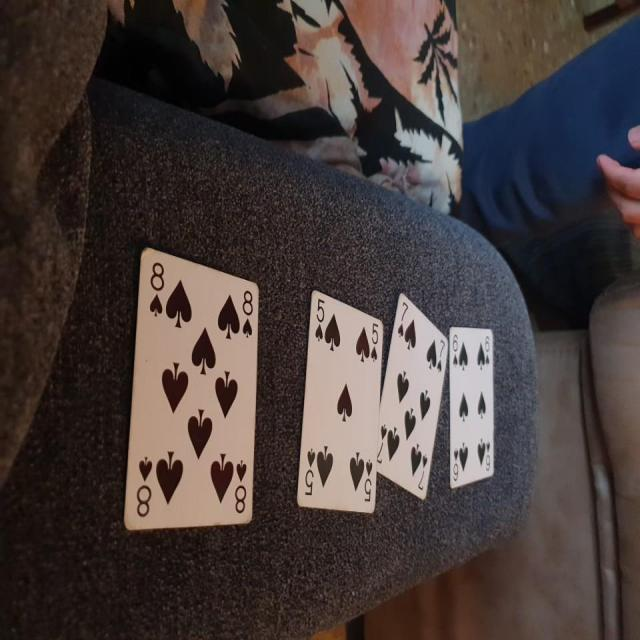5 Spades: (291, 276, 382, 524)
6 Spades: (443, 310, 506, 506)
7 Spades: (376, 287, 450, 516)
8 Spades: (118, 245, 262, 536)
